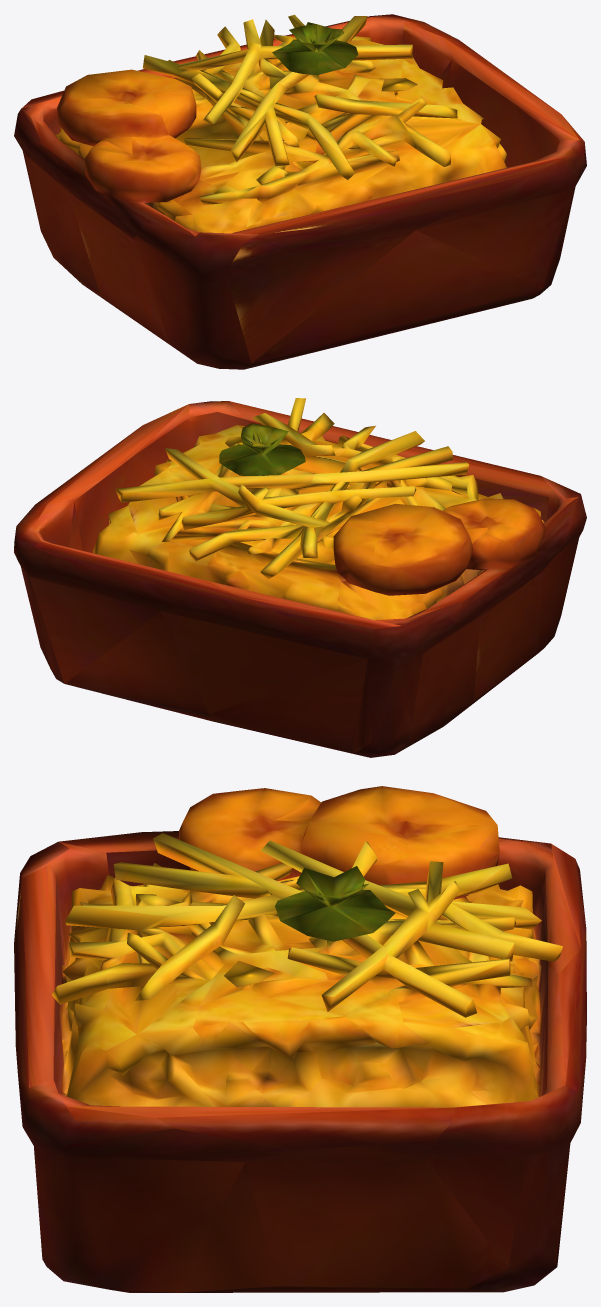
Rendered from pirarucu_de_casaca.glb.
The picture shows the model from 3 angles, top to bottom: view 1: azimuth 30°, elevation 25°; view 2: azimuth 150°, elevation 25°; view 3: azimuth 270°, elevation 25°; orthographic projection. The views are drawn at different scales.
Parts seen in each view (by area): view 1: pirarucu_de_casaca; view 2: pirarucu_de_casaca; view 3: pirarucu_de_casaca.
Part boxes in pixels (box(x1,y1,x2,y2)): pirarucu_de_casaca: box(14, 14, 586, 369); pirarucu_de_casaca: box(14, 398, 586, 757); pirarucu_de_casaca: box(14, 786, 586, 1292).
Size of the model in its own units: 1 by 0.4917 by 0.8099.
Materials: 1 (1 with a texture image).
